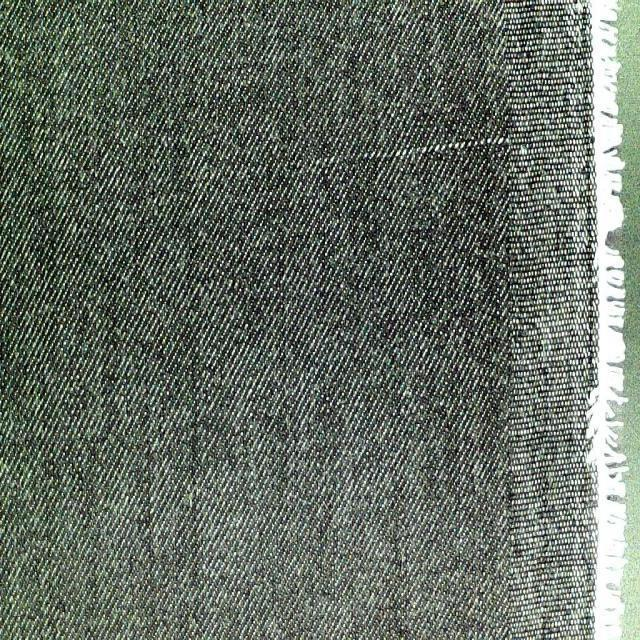pulled_or_thick_thread: (241, 126, 518, 190)
